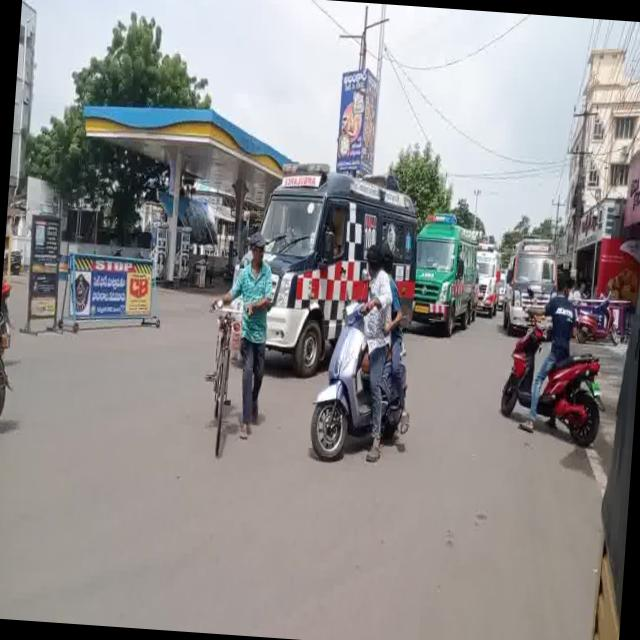ambulance: (254, 155, 416, 348), (416, 208, 479, 326), (505, 239, 558, 335), (480, 237, 499, 306)
